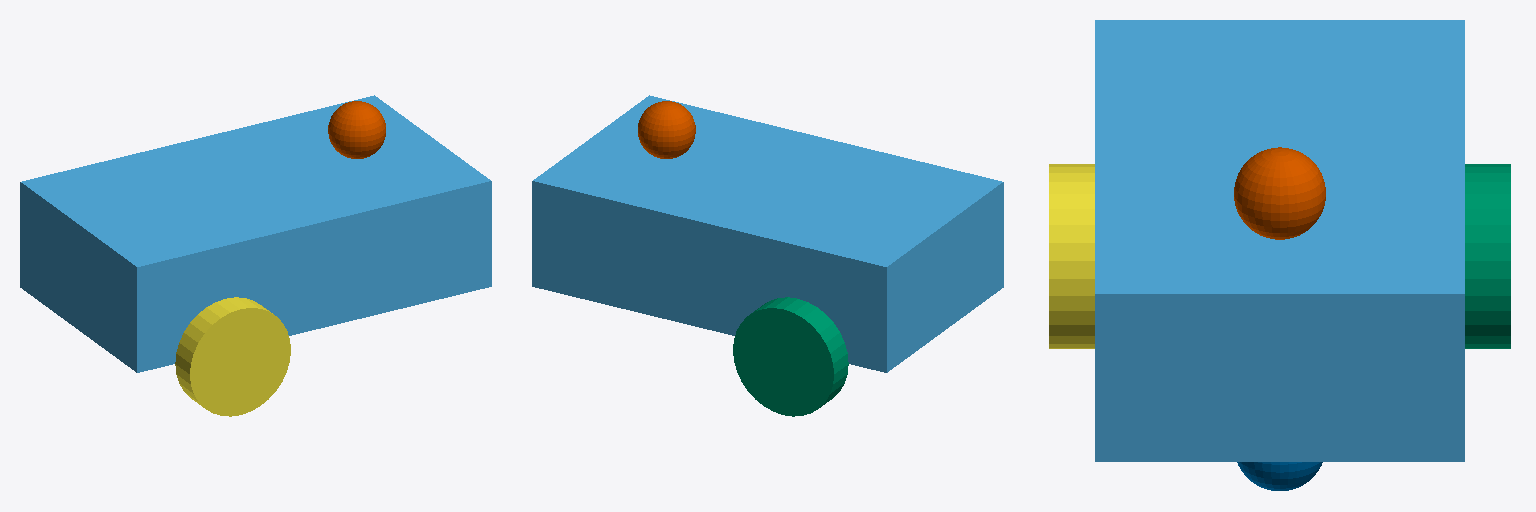
robot.urdf — robot:
<?xml version="1.0"?>
<robot>
  <link name="base_link"/>

  <link name="base_chassis_link">
    <inertial>
      <mass value="1"/>
      <origin xyz="0.0 0.0 0.0" rpy="0.0 0.0 0.0"/>
      <inertia ixx="0.01665" ixy="0.0" ixz="0.0" iyy="0.0441225" iyz="0.0" izz="0.0541625"/>
    </inertial>
    <visual>
      <geometry>
        <box size="0.7 0.4 0.2"/>
      </geometry>
      <origin xyz="0.0 0.0 0.1" rpy="0.0 0.0 0.0"/>
    </visual>
    <collision>
      <geometry>
        <box size="0.7 0.4 0.2"/>
      </geometry>
      <origin xyz="0.0 0.0 0.1" rpy="0.0 0.0 0.0"/>
    </collision>
  </link>

  <link name="base_wheel_l_link">
    <inertial>
      <mass value="0.3"/>
      <origin xyz="0.0 0.0 0.0" rpy="0.0 0.0 0.0"/>
      <inertia ixx="0.00081252" ixy="0.0" ixz="0.0" iyy="0.00081252" iyz="0.0" izz="0.0015"/>
    </inertial>
    <visual>
      <geometry>
        <cylinder radius="0.1" length="0.05"/>
      </geometry>
      <origin xyz="0.0 0.0 0.0" rpy="1.57 0.0 0.0"/>
    </visual>
    <collision>
      <geometry>
        <cylinder radius="0.1" length="0.05"/>
      </geometry>
      <origin xyz="0.0 0.0 0.0" rpy="1.57 0.0 0.0"/>
    </collision>
  </link>

  <link name="base_wheel_r_link">
    <inertial>
      <mass value="0.3"/>
      <origin xyz="0.0 0.0 0.0" rpy="0.0 0.0 0.0"/>
      <inertia ixx="0.00081252" ixy="0.0" ixz="0.0" iyy="0.00081252" iyz="0.0" izz="0.0015"/>
    </inertial>
    <visual>
      <geometry>
        <cylinder radius="0.1" length="0.05"/>
      </geometry>
      <origin xyz="0.0 0.0 0.0" rpy="1.57 0.0 0.0"/>
    </visual>
    <collision>
      <geometry>
        <cylinder radius="0.1" length="0.05"/>
      </geometry>
      <origin xyz="0.0 0.0 0.0" rpy="1.57 0.0 0.0"/>
    </collision>
  </link>

  <link name="base_caster_link">
    <inertial>
      <mass value="0.1"/>
      <origin xyz="0.0 0.0 0.0" rpy="0.0 0.0 0.0"/>
      <inertia ixx="0.00016666" ixy="0.0" ixz="0.0" iyy="0.00016666" iyz="0.0" izz="0.00016666"/>
    </inertial>
    <visual>
      <geometry>
        <sphere radius="0.05"/>
      </geometry>
      <origin xyz="0.0 0.0 0.0" rpy="0.0 0.0 0.0"/>
    </visual>
    <collision>
      <geometry>
        <sphere radius="0.05"/>
      </geometry>
      <origin xyz="0.0 0.0 0.0" rpy="0.0 0.0 0.0"/>
    </collision>
  </link>

  <link name="base_lidar_link">
    <inertial>
      <mass value="0.1"/>
      <origin xyz="0.0 0.0 0.0" rpy="0.0 0.0 0.0"/>
      <inertia ixx="0.00016666" ixy="0.0" ixz="0.0" iyy="0.00016666" iyz="0.0" izz="0.00016666"/>
    </inertial>
    <visual>
      <geometry>
        <sphere radius="0.05"/>
      </geometry>
      <origin xyz="0.0 0.0 0.0" rpy="0.0 0.0 0.0"/>
    </visual>
    <collision>
      <geometry>
        <sphere radius="0.05"/>
      </geometry>
      <origin xyz="0.0 0.0 0.0" rpy="0.0 0.0 0.0"/>
    </collision>
  </link>

  <joint name="base_chassis_joint" type="fixed">
    <parent link="base_link"/>
    <child link="base_chassis_link"/>
    <origin xyz="0.0 0.0 0.05" rpy="0.0 0.0 0.0"/>
  </joint>

  <joint name="base_wheel_l_joint" type="continuous">
    <parent link="base_chassis_link"/>
    <child link="base_wheel_l_link"/>
    <origin xyz="-0.175 0.225 0.0" rpy="0 0.0 0.0"/>
    <axis xyz="0.0 1.0 0.0"/>
    <dynamics damping="0.2" friction="1.0"/>
    <limit effort="100" velocity="1.0"/>
  </joint>

  <joint name="base_wheel_r_joint" type="continuous">
    <parent link="base_chassis_link"/>
    <child link="base_wheel_r_link"/>
    <origin xyz="-0.175 -0.225 0.0" rpy="0 0.0 0.0"/>
    <axis xyz="0.0 1.0 0.0"/>
    <dynamics damping="0.2" friction="1.0"/>
    <limit effort="100" velocity="1.0"/>
  </joint>

  <joint name="base_caster_joint" type="fixed">
    <parent link="base_chassis_link"/>
    <child link="base_caster_link"/>
    <dynamics damping="0.2" friction="0.1"/>
    <origin xyz="0.2 0.0 -0.05" rpy="0.0 0.0 0.0"/>
  </joint>

  <joint name="base_lidar_joint" type="fixed">
    <parent link="base_chassis_link"/>
    <child link="base_lidar_link"/>
    <origin xyz="0.2 0.0 0.25" rpy="0.0 0.0 0.0"/>
  </joint>
</robot>

--- What the picture shows (computed from the rendered views, not written in the file) ---
Views: 3 orthographic renders of the robot side by side, from view 1: azimuth 30°, elevation 25°; view 2: azimuth 150°, elevation 25°; view 3: azimuth 270°, elevation 25°.
Robot: robot — 6 links, 5 joints (2 continuous, 3 fixed); root link base_link; default pose: every joint at zero.
Links seen in each view (by area): view 1: base_chassis_link, base_wheel_r_link, base_lidar_link; view 2: base_chassis_link, base_wheel_l_link, base_lidar_link; view 3: base_chassis_link, base_wheel_l_link, base_wheel_r_link, base_lidar_link, base_caster_link.
Link boxes in pixels (box(x1,y1,x2,y2)): base_chassis_link: box(20, 95, 491, 372); base_wheel_r_link: box(175, 297, 290, 416); base_lidar_link: box(328, 101, 385, 158); base_chassis_link: box(532, 95, 1003, 372); base_wheel_l_link: box(733, 297, 848, 416); base_lidar_link: box(638, 101, 695, 158); base_chassis_link: box(1095, 20, 1464, 461); base_wheel_l_link: box(1465, 164, 1510, 348); base_wheel_r_link: box(1049, 164, 1094, 348); base_lidar_link: box(1234, 147, 1325, 239); base_caster_link: box(1237, 462, 1322, 490).
Size in the robot's own frame: 0.7 by 0.5002 by 0.4 metres.
Geometry: primitives only (box / cylinder / sphere), no mesh files.